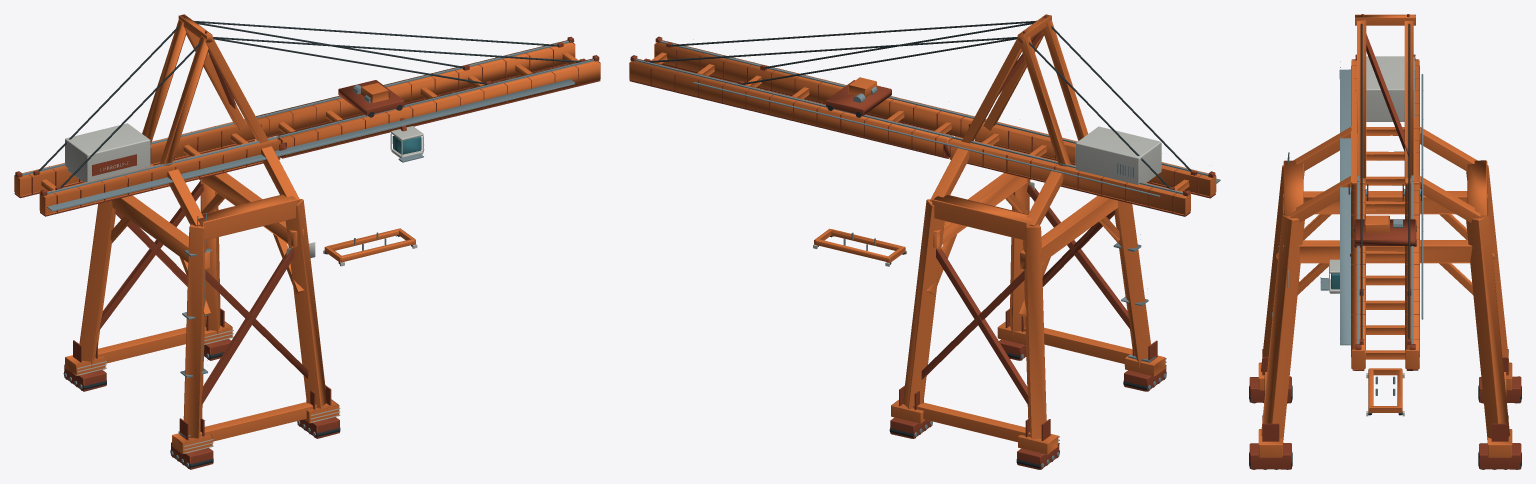
The model's file is crane-mid.glb.
3 views of the same model, side by side, from view 1: azimuth 30°, elevation 25°; view 2: azimuth 150°, elevation 25°; view 3: azimuth 270°, elevation 25° (orthographic). The views are drawn at different scales.
Visible parts, largest first — view 1: Harborline STS 04; view 2: Harborline STS 04; view 3: Harborline STS 04.
Boxes of the visible parts, x1,y1,x2,y2 form: Harborline STS 04: [14, 14, 600, 469]; Harborline STS 04: [629, 14, 1220, 469]; Harborline STS 04: [1249, 14, 1521, 469].
Bounding box in the file's own units: 46.99 × 31 × 18.56.
